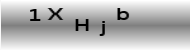1: (27, 8, 41, 22)
H: (75, 18, 89, 32)
J: (98, 20, 106, 37)
X: (46, 7, 64, 21)
b: (116, 7, 129, 21)
